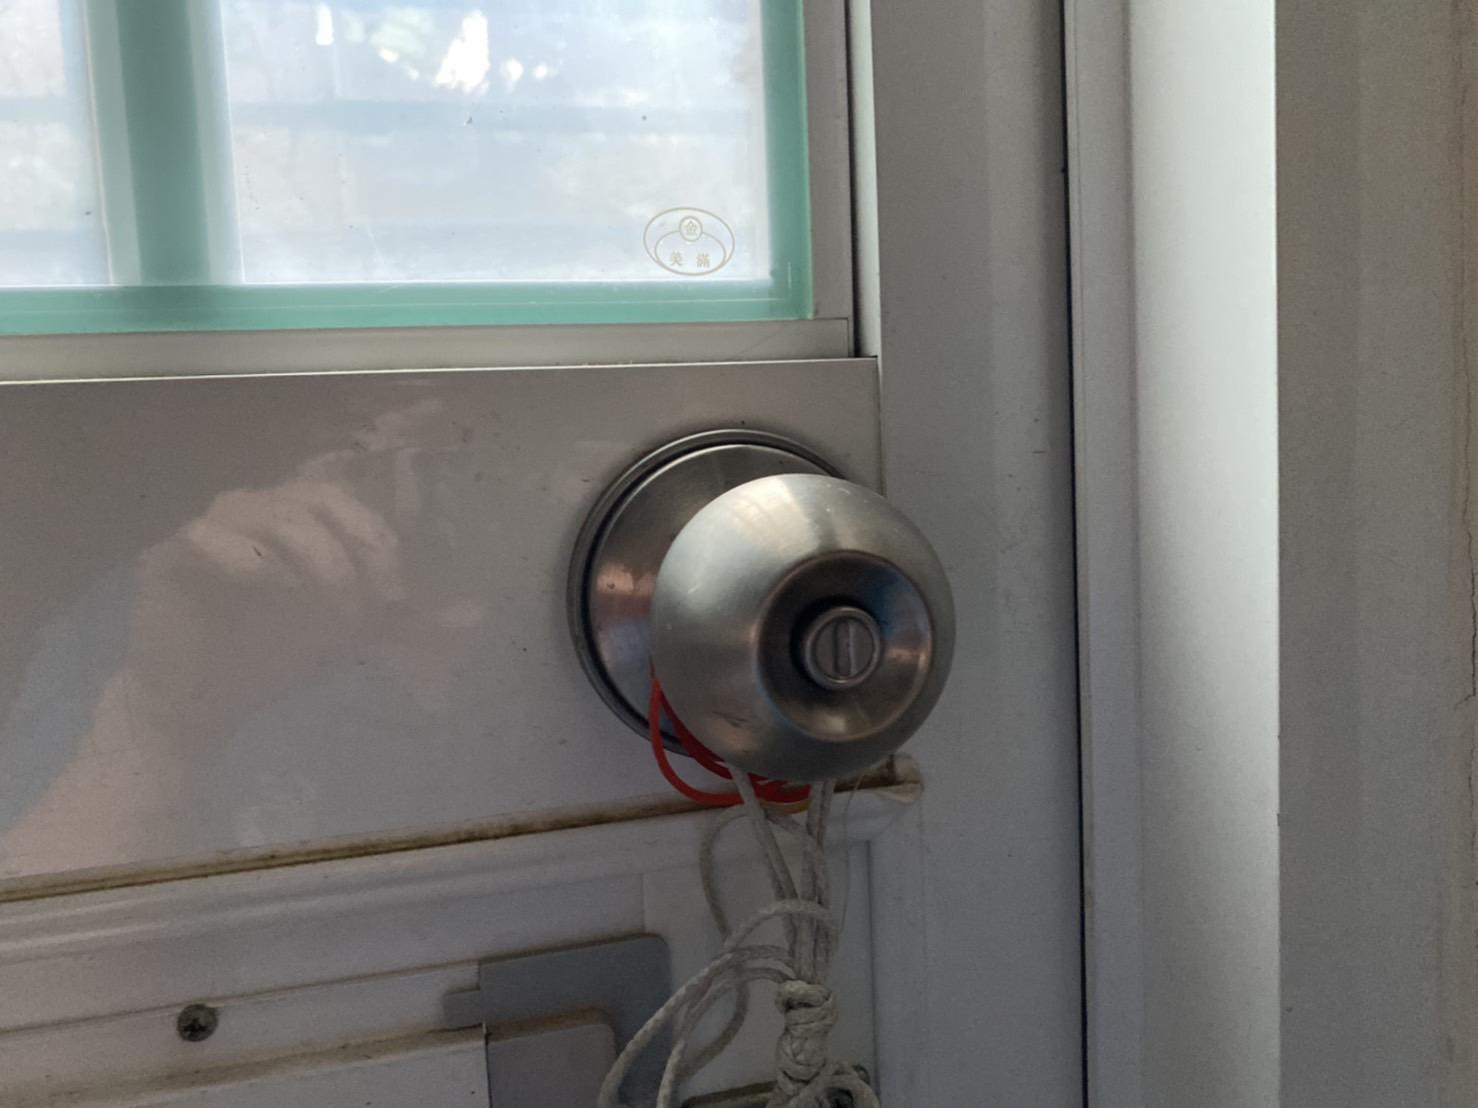doorhandle: (566, 433, 1019, 791)
